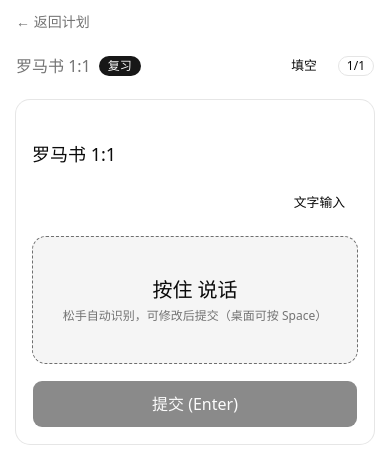
Scenario: 语音输入作为纯输入方式 › 可以切回文字输入，也能再切回语音
Click the button "文字输入" at (319, 202), box [281,184,358,220]
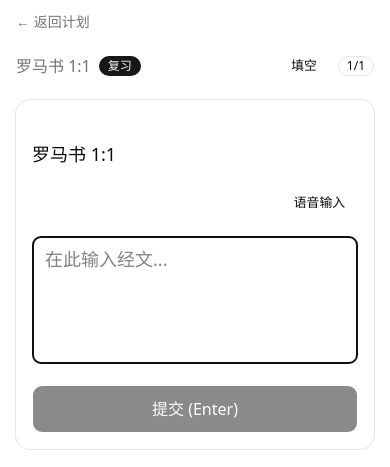
Result: the text box with placeholder "在此输入经文..." is shown at [32,236,358,364]
Click the button "语音输入" at (319, 202), box [281,184,358,220]
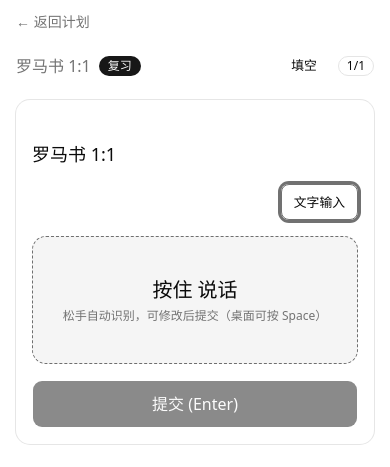
Result: the button "按住 说话 松手自动识别，可修改后提交（桌面可按 Space）" is shown at [32,236,358,364]
